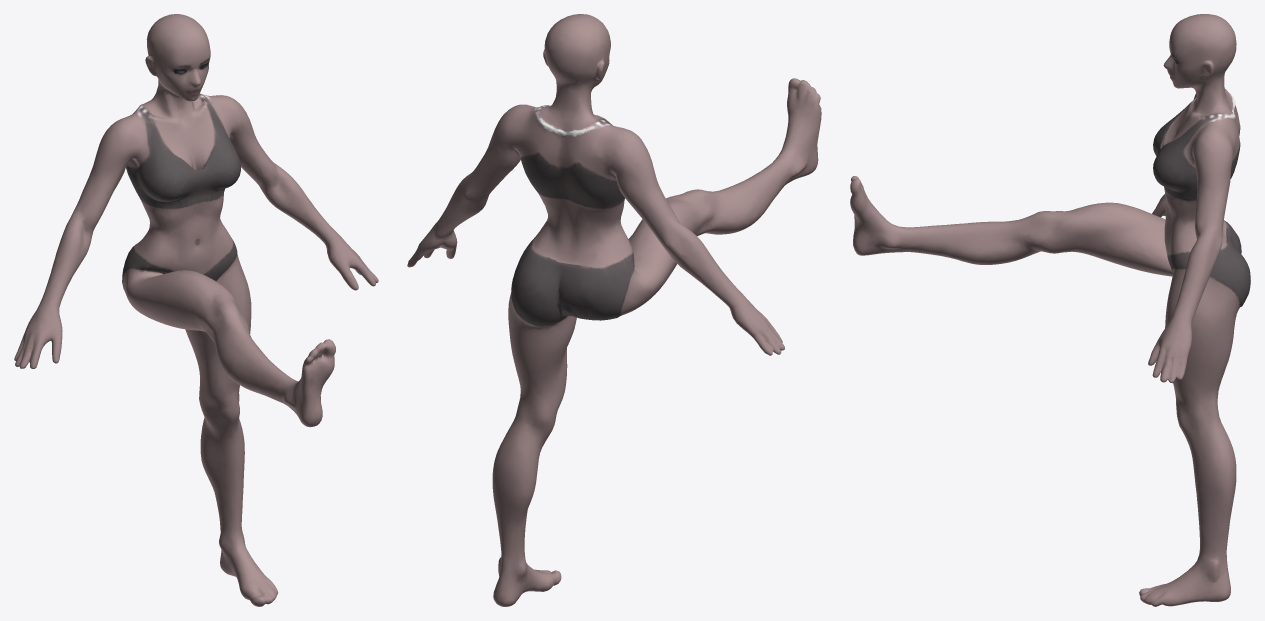
The model's file is bounded_soft-ThighL-90.glb.
The picture shows the model from 3 angles, left to right: view 1: azimuth 30°, elevation 25°; view 2: azimuth 150°, elevation 25°; view 3: azimuth 270°, elevation 25°; orthographic projection. The views are drawn at different scales.
Visible parts, largest first — view 1: bounded_soft-ThighL-90; view 2: bounded_soft-ThighL-90; view 3: bounded_soft-ThighL-90.
Boxes of the visible parts, left/top/right/bottom form: bounded_soft-ThighL-90: left=14, top=14, right=378, bottom=606; bounded_soft-ThighL-90: left=407, top=14, right=821, bottom=606; bounded_soft-ThighL-90: left=850, top=14, right=1250, bottom=606.
Size of the model in its own units: 0.6508 by 1 by 0.6521.
1 material, 1 textured.
